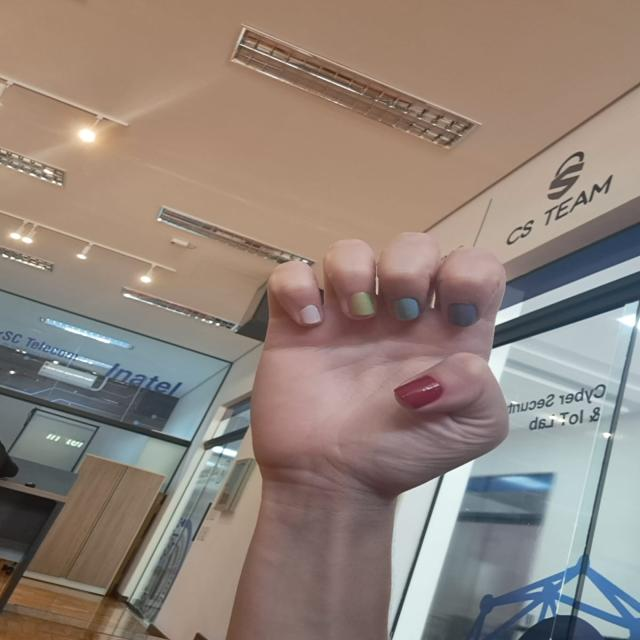E: (227, 220, 562, 554)
